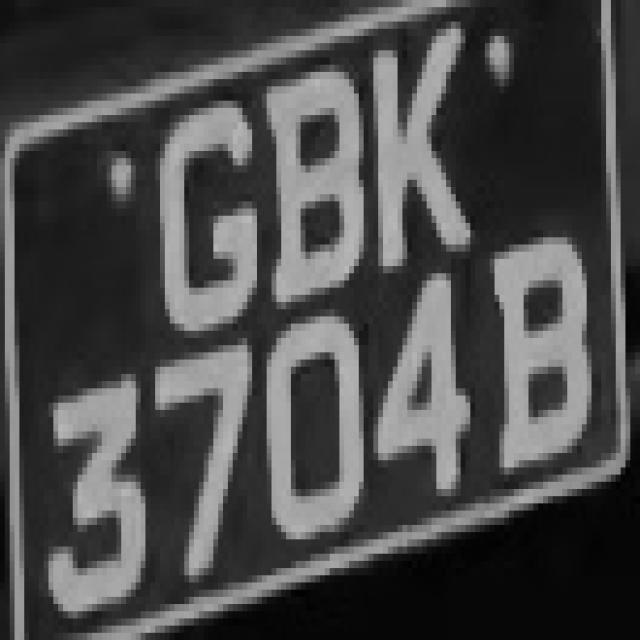0: (252, 295, 373, 546)
3: (29, 360, 146, 626)
4: (359, 280, 480, 525)
7: (136, 324, 266, 604)
B: (257, 43, 373, 324), (475, 230, 601, 482)
G: (136, 79, 266, 331)
K: (364, 22, 480, 273)
